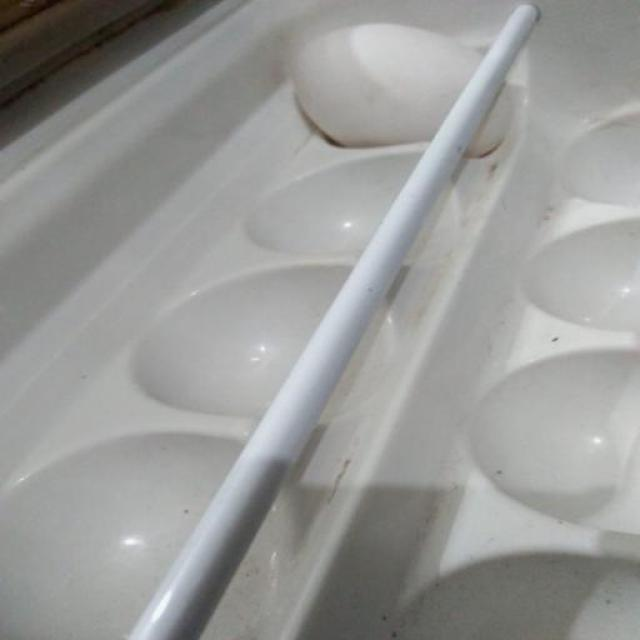telur: (265, 5, 517, 170)
